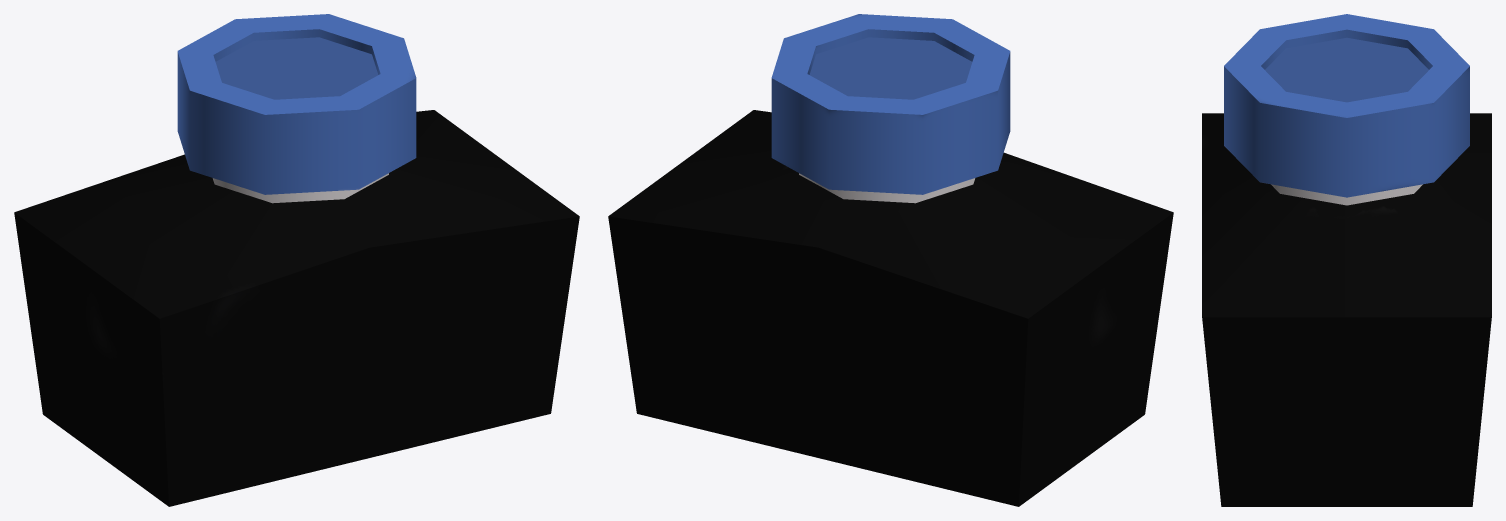
The model's file is asset_murekkep_sise.fbx.
3 renders of one model, left to right at view 1: azimuth 30°, elevation 25°; view 2: azimuth 150°, elevation 25°; view 3: azimuth 270°, elevation 25°, orthographic.
Parts seen in each view (by area): view 1: Plane; view 2: Plane; view 3: Plane.
Part boxes in pixels (<box>): Plane: <box>14,14,579,506</box>; Plane: <box>608,14,1173,506</box>; Plane: <box>1202,14,1491,506</box>.
Bounding box in the file's own units: 88 × 70 × 52.8.
1 material, 1 textured.
